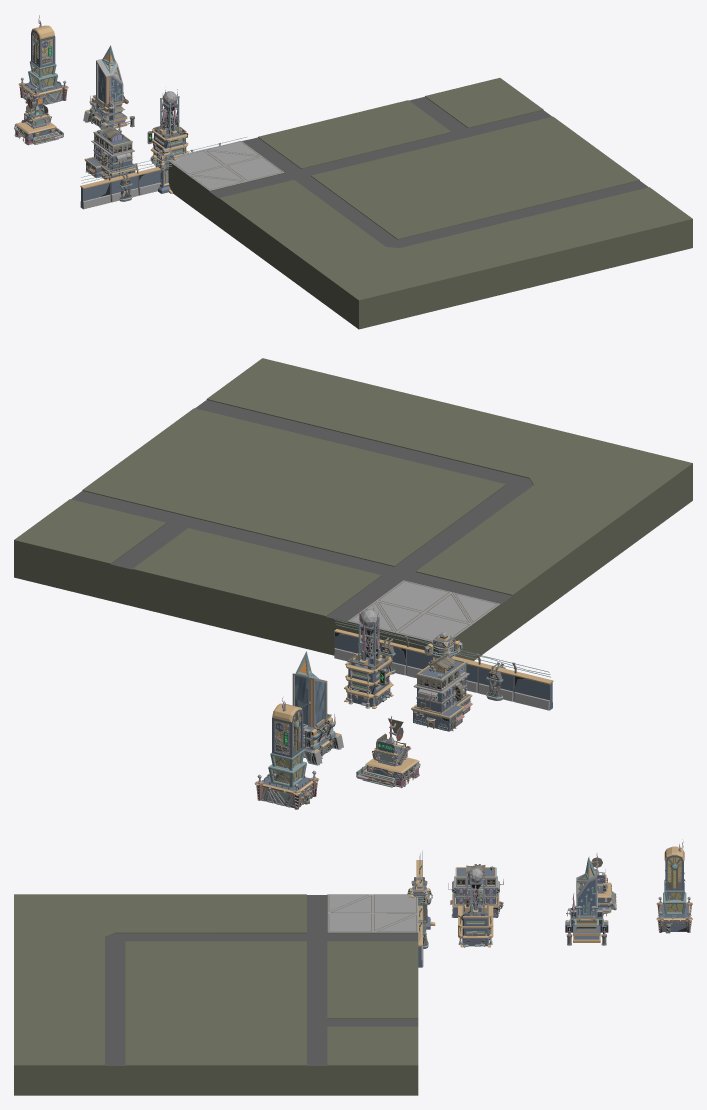
3 renders of one model, top to bottom at view 1: azimuth 30°, elevation 25°; view 2: azimuth 150°, elevation 25°; view 3: azimuth 270°, elevation 25°, orthographic. The views are drawn at different scales.
Parts seen in each view (by area): view 1: Land_B, Land_A, Land_C, Land_D, Land_E, Wall_A, Building_B_Central, Building_C_Top, Building_E_Top, Building_A_Top, Building_D_Botton, Building_A_Central (+6 smaller); view 2: Land_C, Land_B, Land_D, Land_A, Wall_A, Land_E, Building_B_Central, Building_C_Top, Building_E_Top, Building_E_Botton, Building_A_Central, Building_D_Botton (+6 smaller); view 3: Land_C, Land_A, Land_B, Land_D, Land_E, Building_B_Central, Building_C_Top, Building_A_Central, Building_E_Top, Building_E_Botton, Building_A_Top, Building_C_Central (+5 smaller).
Part boxes in pixels (<box>): Land_B: <box>262,189,525,329</box>; Land_A: <box>430,148,692,288</box>; Land_C: <box>333,78,595,188</box>; Land_D: <box>168,118,428,258</box>; Land_E: <box>169,141,283,190</box>; Wall_A: <box>80,136,247,209</box>; Building_B_Central: <box>91,129,134,172</box>; Building_C_Top: <box>96,45,123,106</box>; Building_E_Top: <box>31,15,55,67</box>; Building_A_Top: <box>159,89,180,136</box>; Building_D_Botton: <box>14,122,63,145</box>; Building_A_Central: <box>147,126,188,155</box>; Land_C: <box>14,449,352,629</box>; Land_B: <box>354,410,692,591</box>; Land_D: <box>229,501,568,660</box>; Land_A: <box>139,358,477,501</box>; Wall_A: <box>334,619,553,710</box>; Land_E: <box>348,580,499,641</box>; Building_B_Central: <box>413,656,469,714</box>; Building_C_Top: <box>292,651,327,728</box>; Building_E_Top: <box>272,698,303,757</box>; Building_E_Botton: <box>254,770,319,809</box>; Building_A_Central: <box>345,653,392,694</box>; Building_D_Botton: <box>356,757,420,788</box>; Land_C: <box>216,979,418,1095</box>; Land_A: <box>14,979,215,1095</box>; Land_B: <box>14,894,215,980</box>; Land_D: <box>216,894,418,980</box>; Land_E: <box>327,894,418,932</box>; Building_B_Central: <box>448,866,503,904</box>; Building_C_Top: <box>576,857,597,917</box>; Building_A_Central: <box>458,901,493,936</box>; Building_E_Top: <box>664,839,685,890</box>; Building_E_Botton: <box>656,897,692,933</box>; Building_A_Top: <box>464,867,486,915</box>; Building_C_Central: <box>566,889,607,931</box>.
Size of the model in its own units: 1500 by 283 by 2015.
